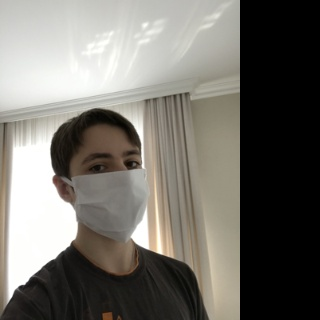with_mask: (68, 141, 150, 244)
